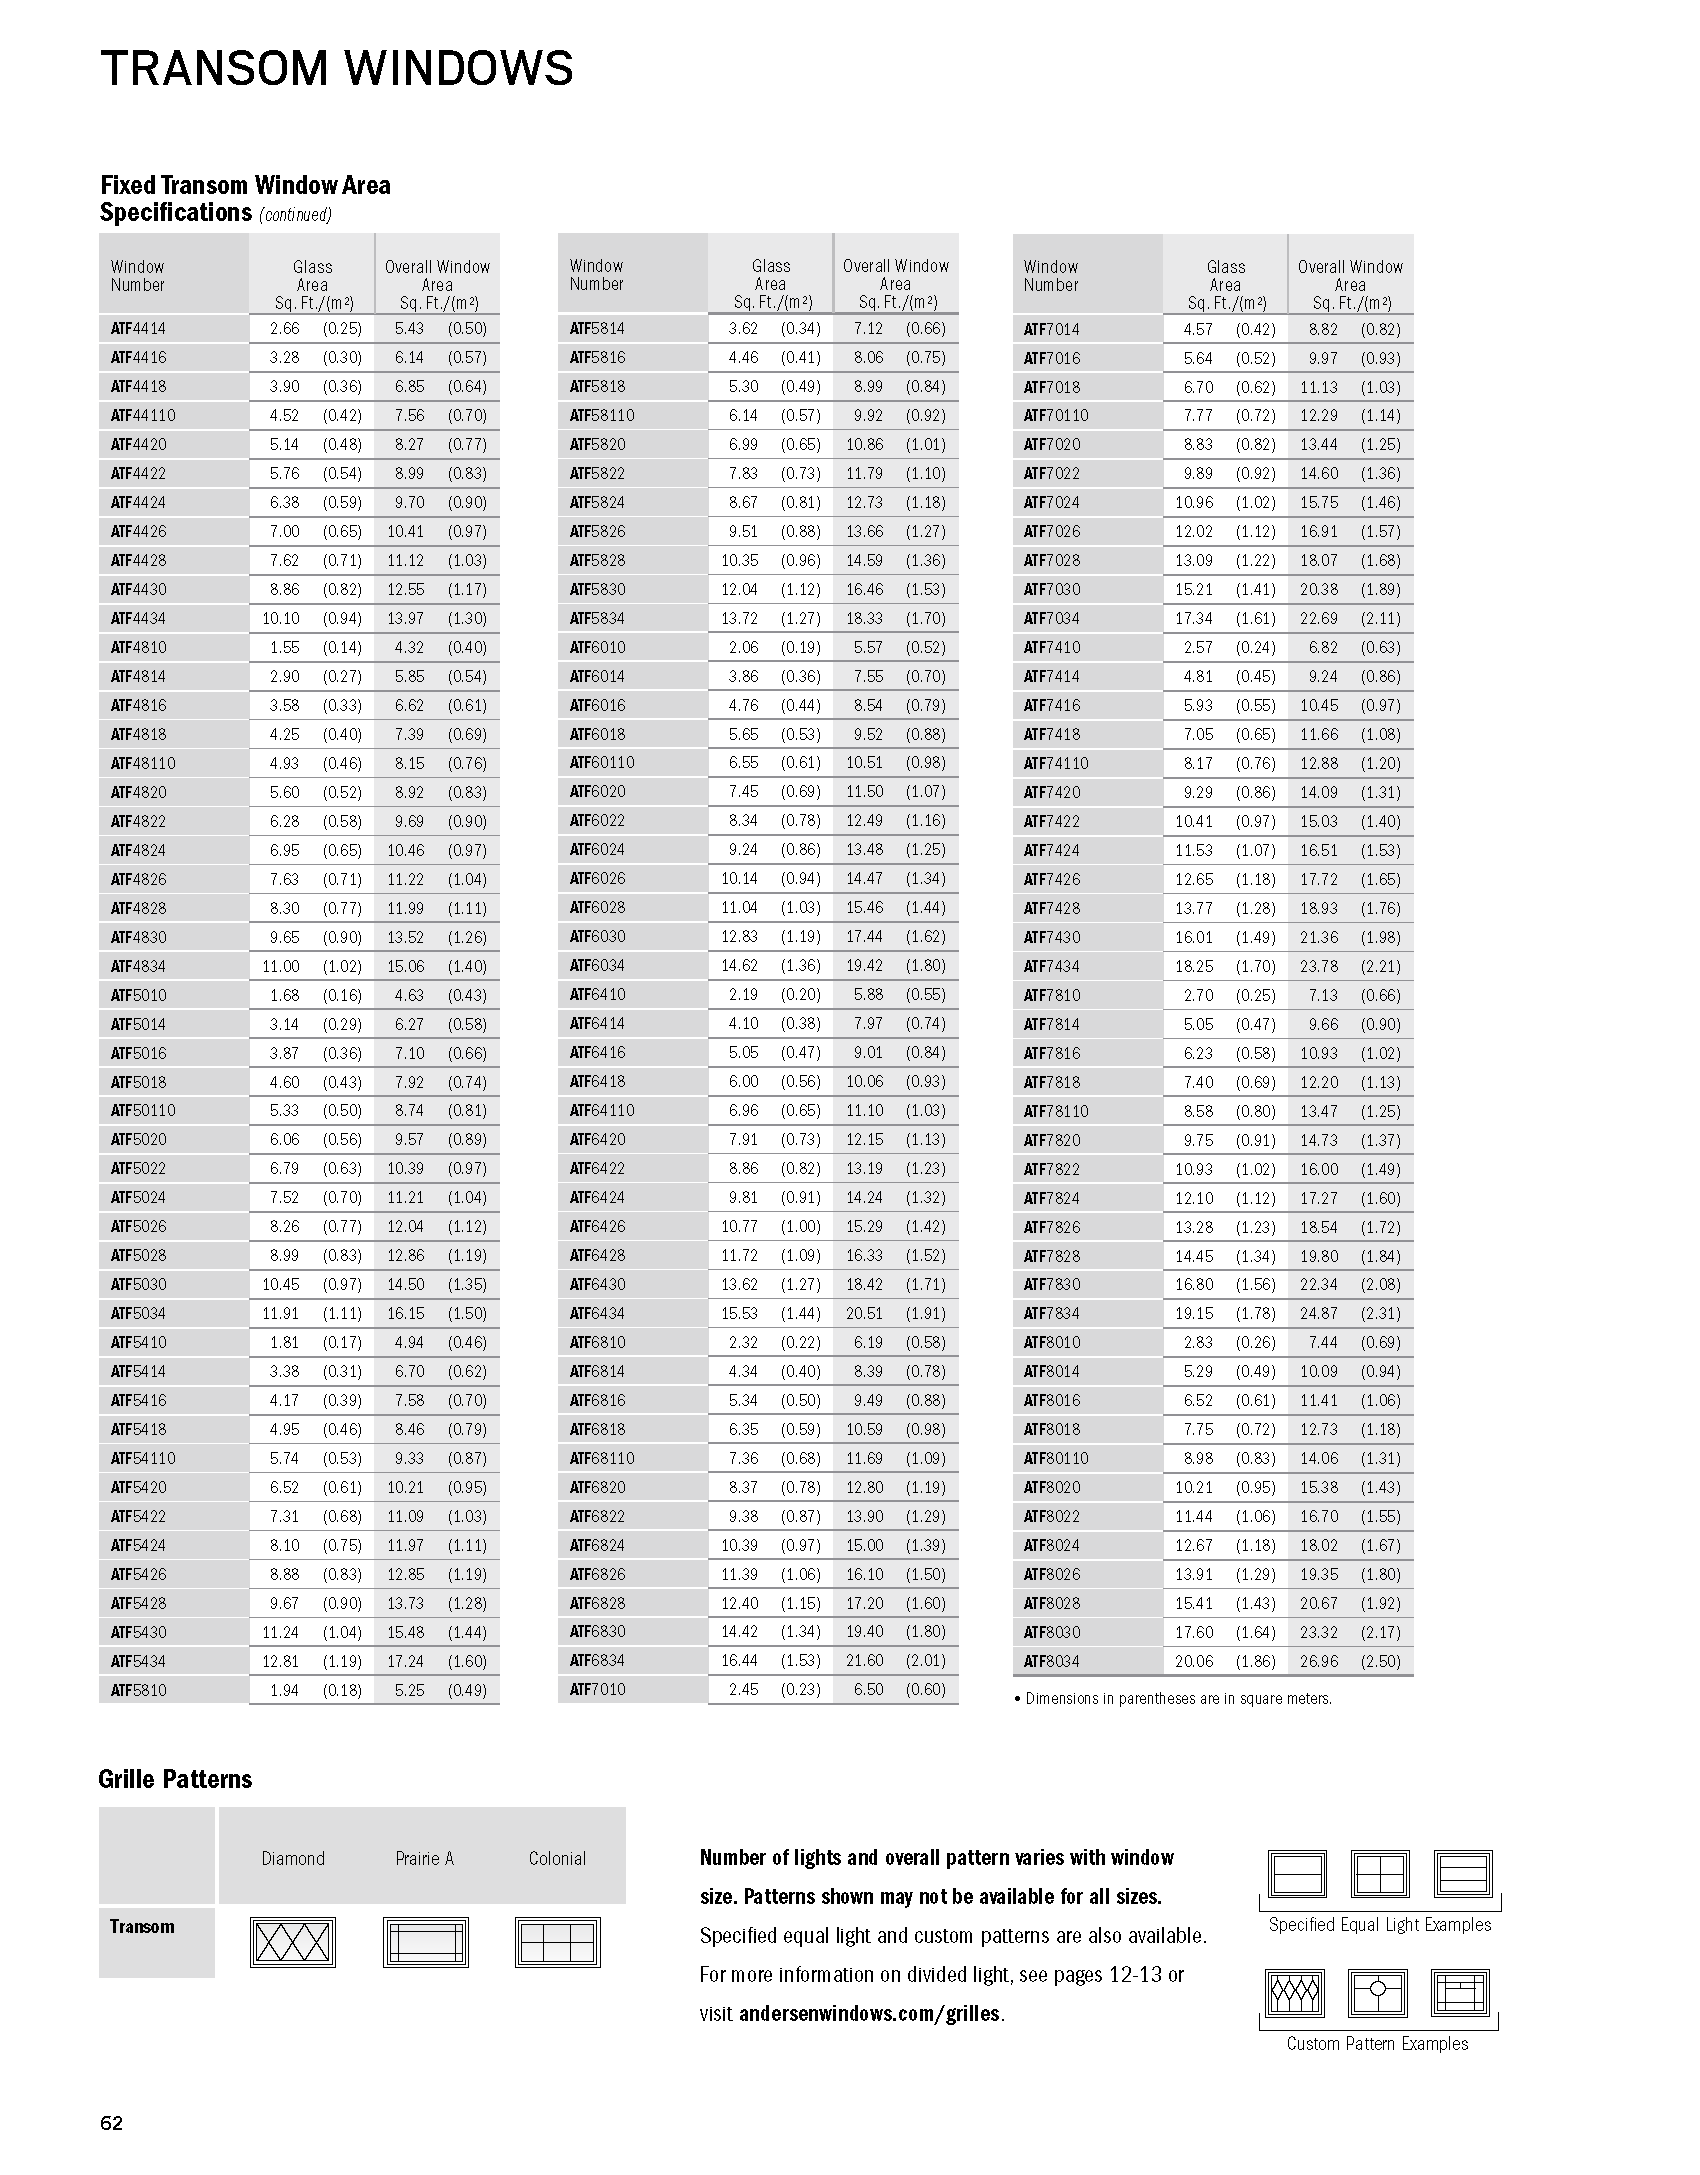tabledetected: (556, 233, 960, 1704), (99, 231, 500, 1707), (1013, 235, 1412, 1677)
